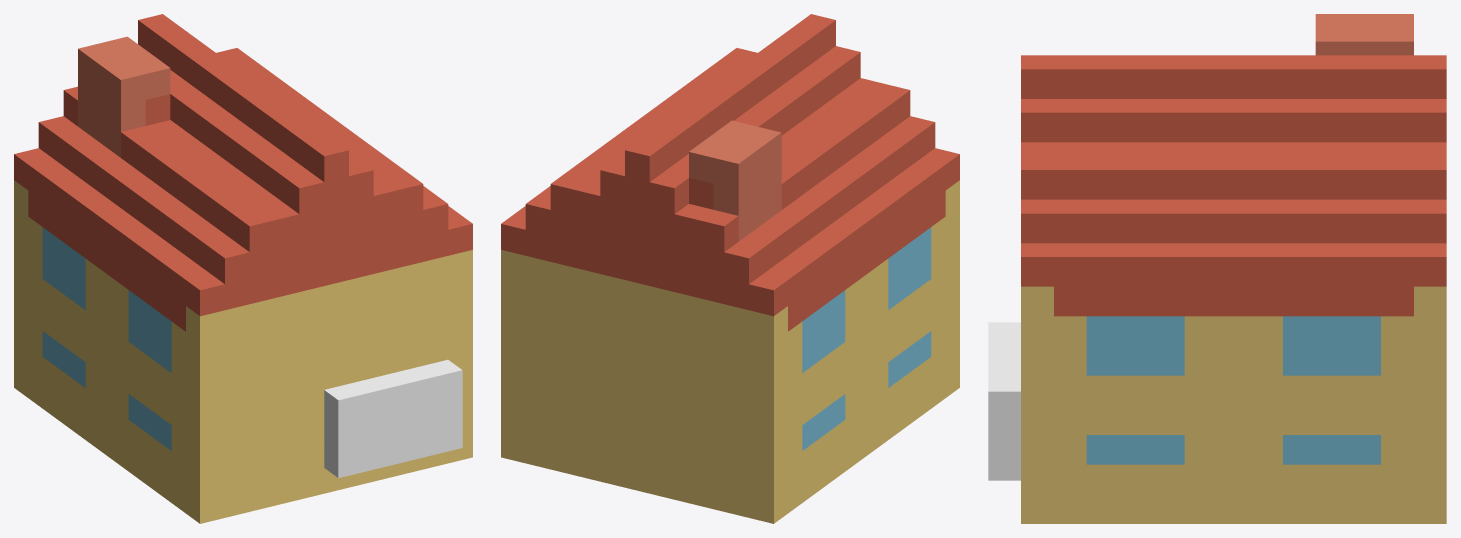
Rendered from house_3.glb.
The picture shows the model from 3 angles, left to right: view 1: azimuth 30°, elevation 25°; view 2: azimuth 150°, elevation 25°; view 3: azimuth 270°, elevation 25°; orthographic projection. The views are drawn at different scales.
Visible parts, largest first — view 1: house_3_roof_red, house_3_wall_yellow, house_3_white, house_3_brick, house_3_window; view 2: house_3_wall_yellow, house_3_roof_red, house_3_brick, house_3_window; view 3: house_3_roof_red, house_3_wall_yellow, house_3_window, house_3_white, house_3_brick.
Boxes of the visible parts, <box> form: house_3_roof_red: <box>14,14,472,331</box>; house_3_wall_yellow: <box>14,180,472,523</box>; house_3_white: <box>324,359,462,478</box>; house_3_brick: <box>78,36,170,157</box>; house_3_window: <box>42,227,171,450</box>; house_3_wall_yellow: <box>501,180,959,523</box>; house_3_roof_red: <box>501,14,959,331</box>; house_3_brick: <box>689,120,781,241</box>; house_3_window: <box>802,227,931,450</box>; house_3_roof_red: <box>1021,55,1446,316</box>; house_3_wall_yellow: <box>1021,286,1446,523</box>; house_3_window: <box>1086,316,1380,464</box>; house_3_white: <box>988,322,1020,480</box>; house_3_brick: <box>1315,14,1413,55</box>.
Bounding box in the file's own units: 8.28 × 9.79 × 10.54.
